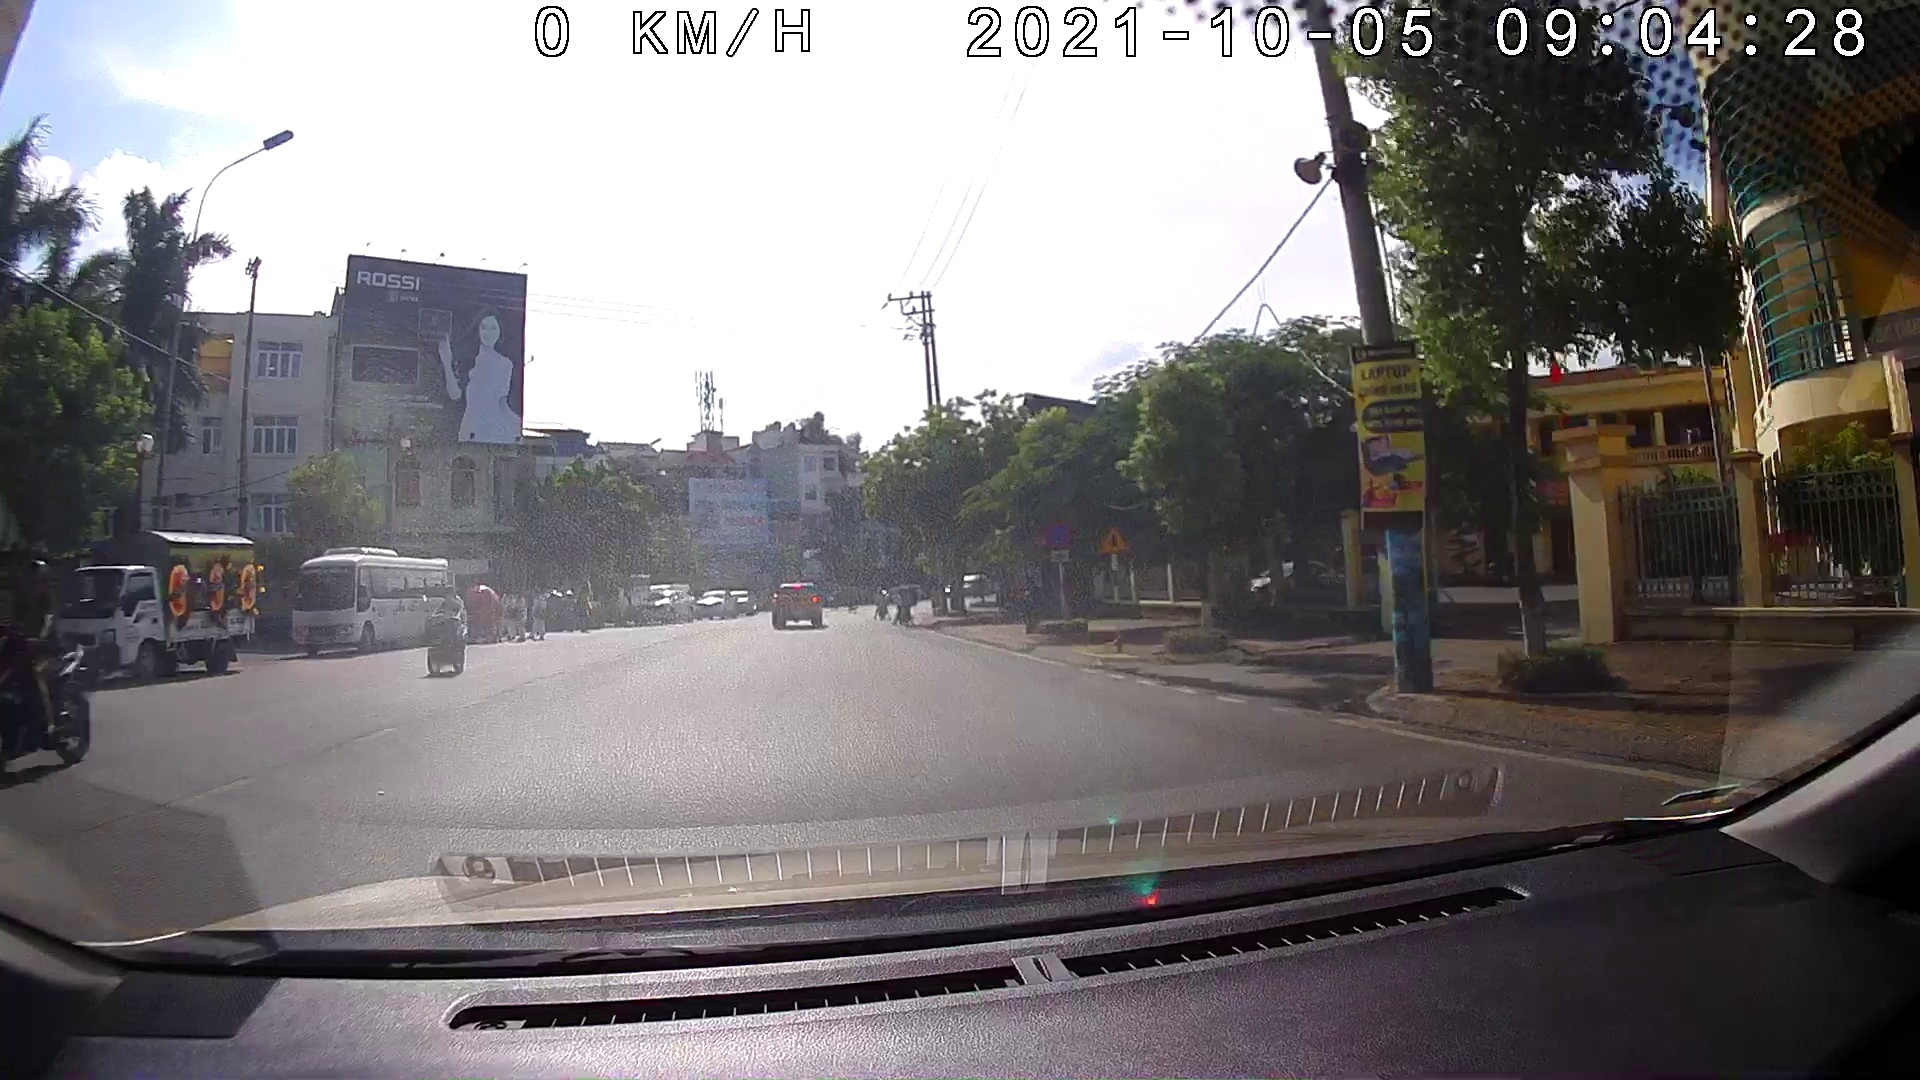Cam do xe: (1044, 516, 1069, 549)
Giao nhau voi duong khong uu tien: (1100, 521, 1131, 553)
